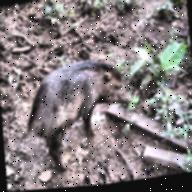boar: (14, 29, 147, 175)
